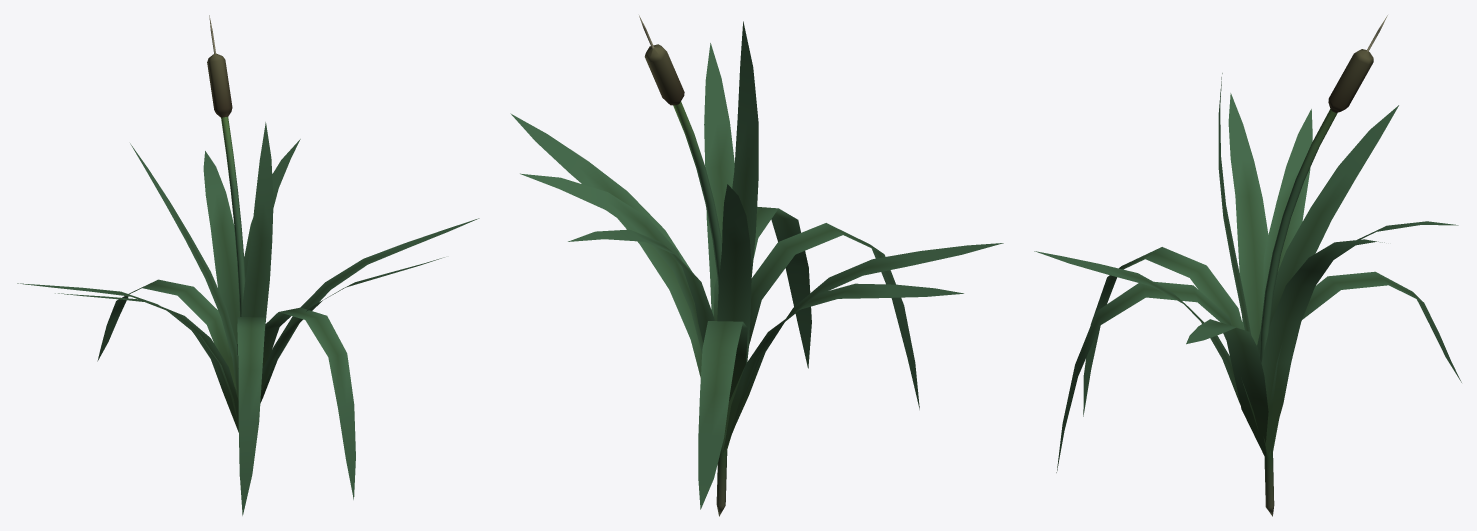
The model's file is plants-grasses-reeds-cattail_v4.glb.
The picture shows the model from 3 angles, left to right: view 1: azimuth 30°, elevation 25°; view 2: azimuth 150°, elevation 25°; view 3: azimuth 270°, elevation 25°; orthographic projection. The views are drawn at different scales.
Parts seen in each view (by area): view 1: Cattail_v4; view 2: Cattail_v4; view 3: Cattail_v4.
Part boxes in pixels (x1,y1,x2,y2): Cattail_v4: [17, 15, 479, 515]; Cattail_v4: [510, 15, 1003, 516]; Cattail_v4: [1034, 15, 1461, 516].
Bounding box in the file's own units: 1.5 × 1.49 × 1.13.
